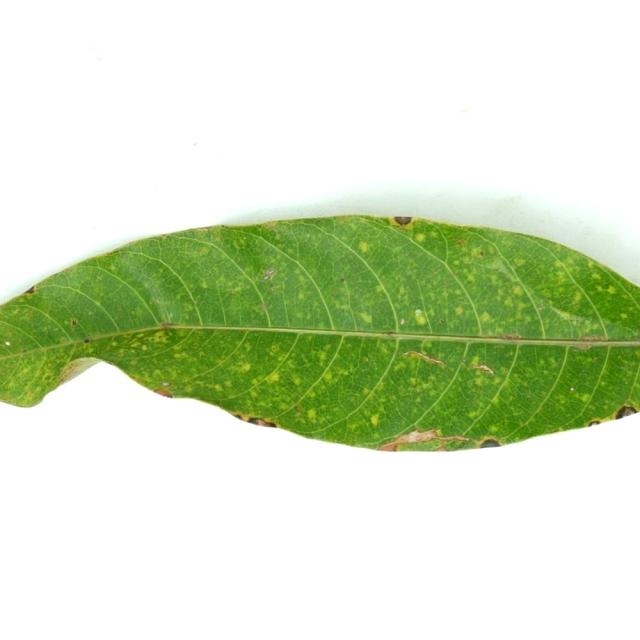Mango: (0, 216, 639, 449)
Powdery_Mildew: (401, 350, 447, 368), (139, 329, 176, 345), (550, 305, 581, 323), (148, 381, 174, 400), (343, 216, 381, 227), (389, 215, 415, 229), (411, 309, 429, 329), (516, 387, 546, 399), (574, 336, 599, 350), (208, 227, 227, 241), (616, 406, 638, 418), (224, 282, 243, 295), (377, 441, 401, 451), (315, 349, 329, 365), (407, 430, 424, 443), (479, 438, 501, 448), (251, 418, 274, 427), (347, 419, 362, 432), (56, 371, 69, 385), (358, 312, 373, 324), (293, 404, 305, 419), (267, 371, 281, 383), (102, 247, 122, 255), (500, 333, 522, 340), (479, 311, 491, 323), (571, 291, 582, 304), (262, 269, 275, 280), (578, 392, 592, 402), (369, 413, 380, 425), (322, 372, 334, 383), (25, 308, 36, 320), (513, 257, 526, 267), (231, 413, 247, 421), (358, 241, 369, 252), (236, 237, 248, 247), (468, 409, 480, 419), (262, 220, 277, 228), (432, 444, 449, 451), (452, 238, 466, 246), (307, 409, 317, 420), (512, 286, 523, 296), (198, 246, 209, 256), (465, 273, 475, 284), (240, 363, 252, 372), (398, 284, 407, 296), (24, 285, 36, 294), (160, 317, 173, 325), (415, 233, 426, 242), (374, 284, 385, 293), (401, 350, 415, 357), (214, 224, 227, 231), (454, 306, 464, 315), (292, 376, 302, 385), (474, 378, 483, 388), (213, 383, 223, 392), (26, 392, 36, 401), (435, 428, 444, 438), (591, 272, 602, 280), (383, 331, 397, 337), (104, 360, 116, 367), (587, 420, 601, 426), (607, 285, 616, 294), (489, 424, 499, 432), (199, 281, 208, 289), (409, 377, 418, 385), (491, 396, 500, 404), (259, 303, 268, 311), (297, 292, 305, 300), (70, 318, 77, 326), (621, 313, 630, 319), (338, 215, 348, 220), (270, 286, 278, 292), (557, 426, 565, 432), (62, 267, 70, 273), (159, 234, 168, 239), (110, 265, 117, 271), (155, 299, 162, 305), (478, 250, 485, 256), (452, 269, 458, 276), (161, 382, 170, 386), (440, 318, 446, 324), (635, 330, 640, 337), (536, 306, 544, 310), (415, 309, 421, 314), (400, 319, 405, 325), (461, 109, 467, 114), (194, 299, 199, 305), (339, 278, 345, 283), (83, 339, 90, 343), (21, 349, 28, 353), (637, 350, 640, 359), (5, 341, 10, 345), (570, 387, 575, 391), (96, 57, 101, 61), (203, 228, 209, 231), (193, 142, 197, 146), (169, 313, 173, 317)
